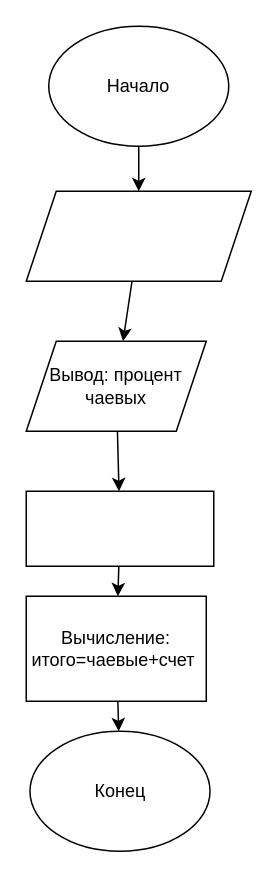
This 278x878 diagram has some shape labels left out. The centre of each missing label's shape, as x and y in pixels:
"Вывод: сумма счёта" goes at point 138,235.
"Вычисление: чаевые = счет x процент/100" goes at point 119,528.
